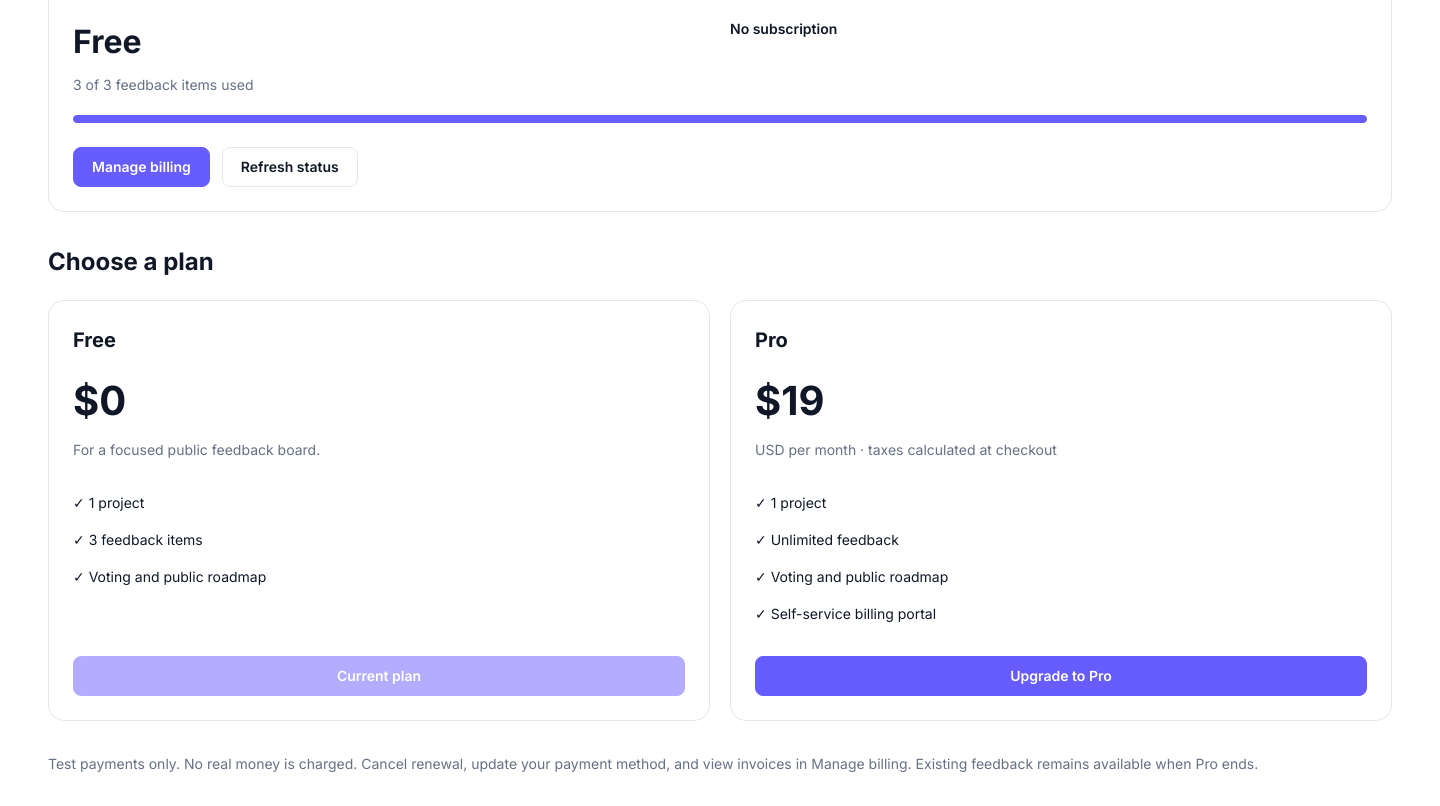
Test: Billing payment confirmation UX › shows a safe network error when checkout rejects
(page scrolled)
Click the button "Upgrade to Pro": [1061, 676] box [755,656,1367,696]
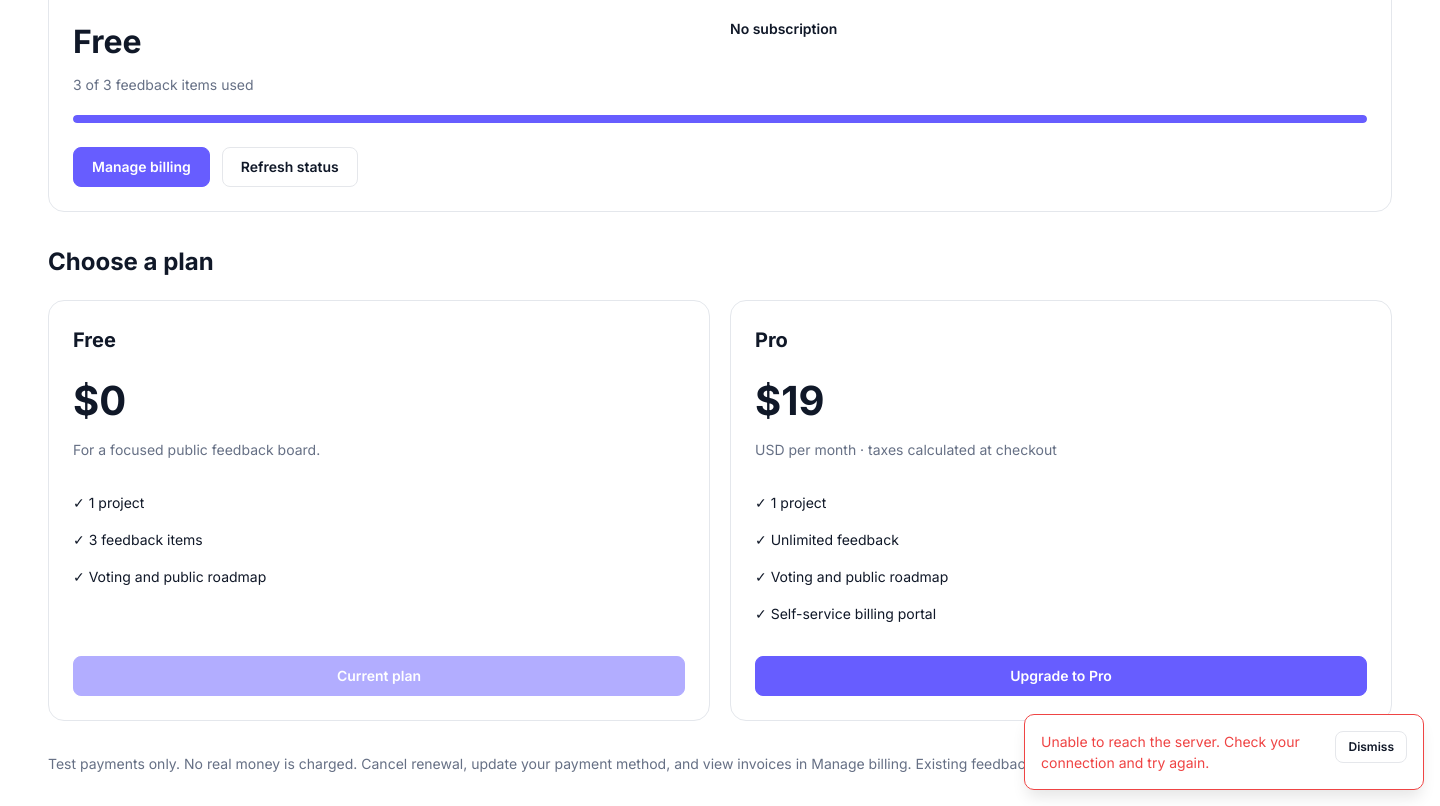
Expected: the message reads "Unable to reach the server. Check your connection and try again.", [1041,733,1300,771]
